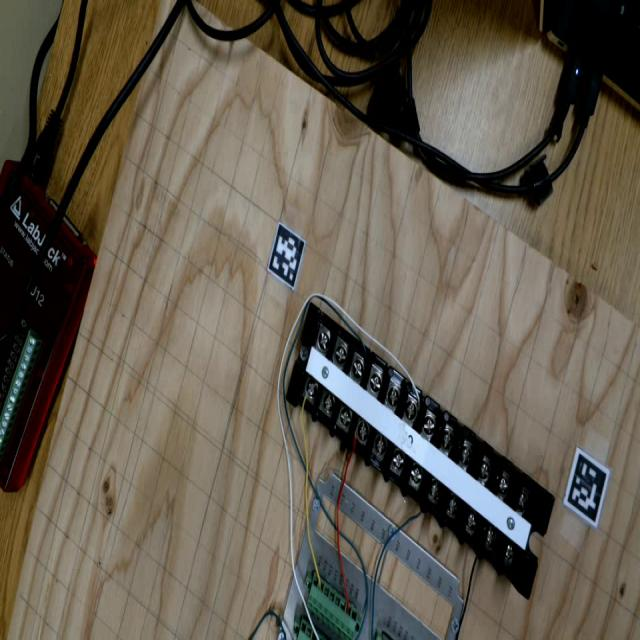Phillips_Block: (254, 299, 589, 600)
Terminal_2: (292, 571, 369, 640), (297, 618, 329, 640)
